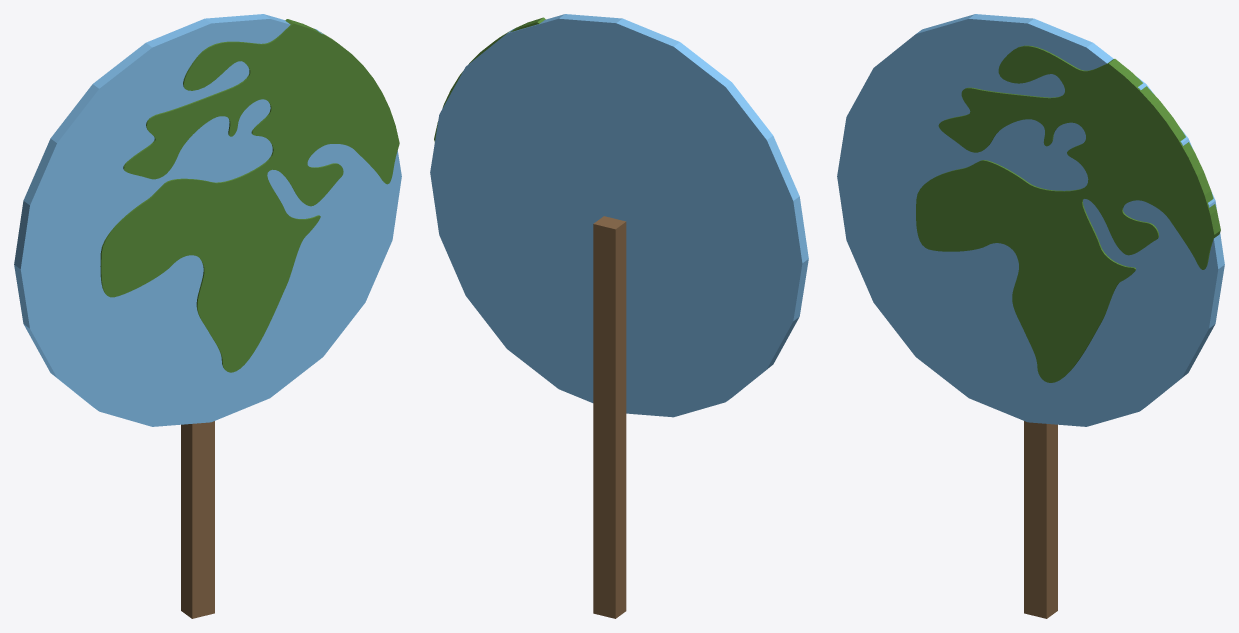
Rendered from globe.glb.
3 renders of one model, left to right at view 1: azimuth 30°, elevation 25°; view 2: azimuth 150°, elevation 25°; view 3: azimuth 330°, elevation 25°, orthographic. The views are drawn at different scales.
Bounding box in the file's own units: 1 × 1.5 × 0.089.
